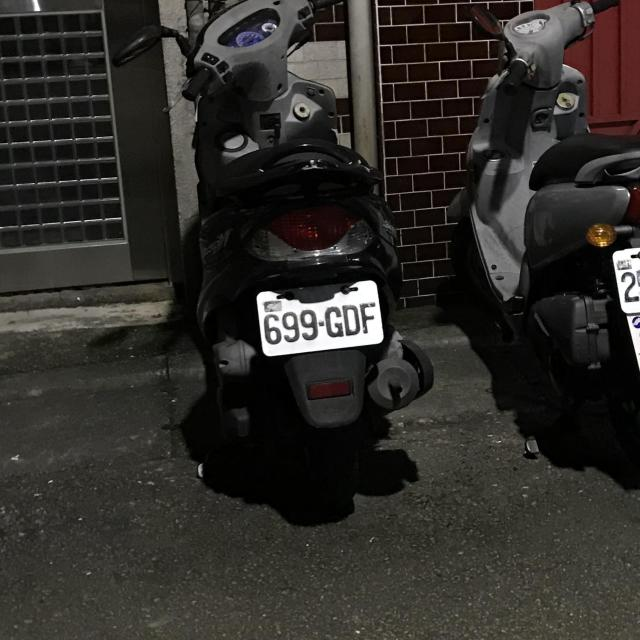W: (251, 278, 388, 360), (609, 234, 640, 314)
